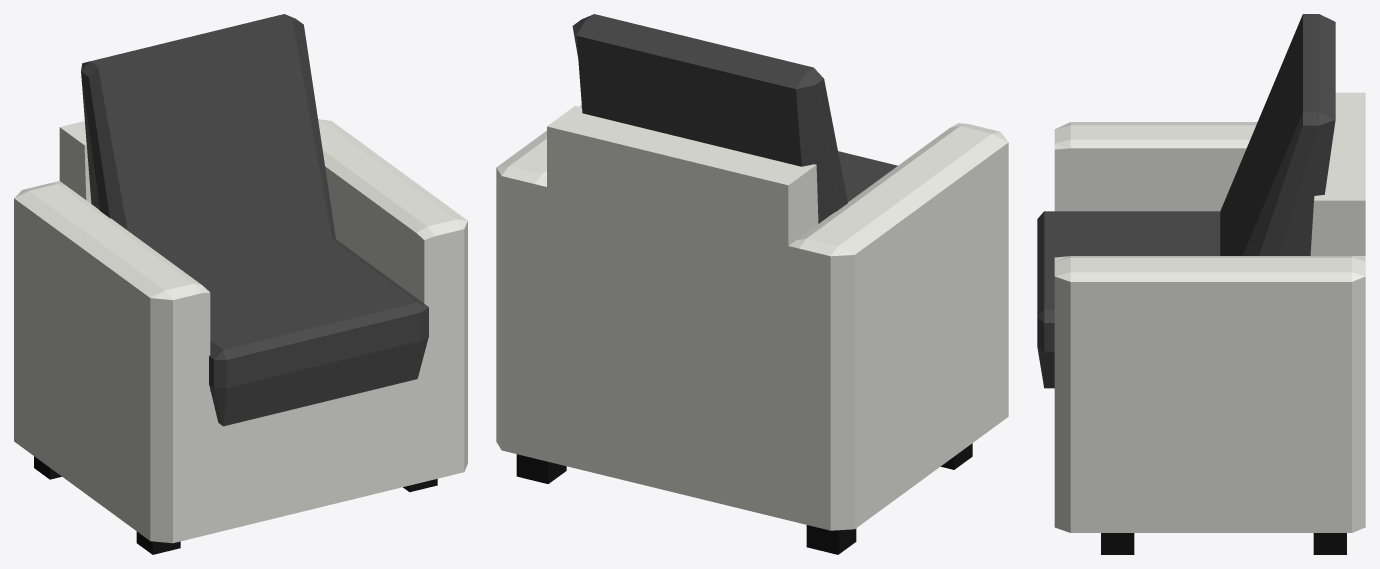
The model's file is Couch_4A.fbx.
3 views of the same model, side by side, from view 1: azimuth 30°, elevation 25°; view 2: azimuth 150°, elevation 25°; view 3: azimuth 270°, elevation 25° (orthographic). The views are drawn at different scales.
Parts seen in each view (by area): view 1: polySurface2346; view 2: polySurface2346; view 3: polySurface2346.
Part boxes in pixels (x1,y1,x2,y2): polySurface2346: [14, 14, 467, 554]; polySurface2346: [496, 14, 1008, 554]; polySurface2346: [1037, 14, 1365, 554].
Bounding box in the file's own units: 1.14 × 1.39 × 0.985.
Materials: 1 (1 with a texture image).
